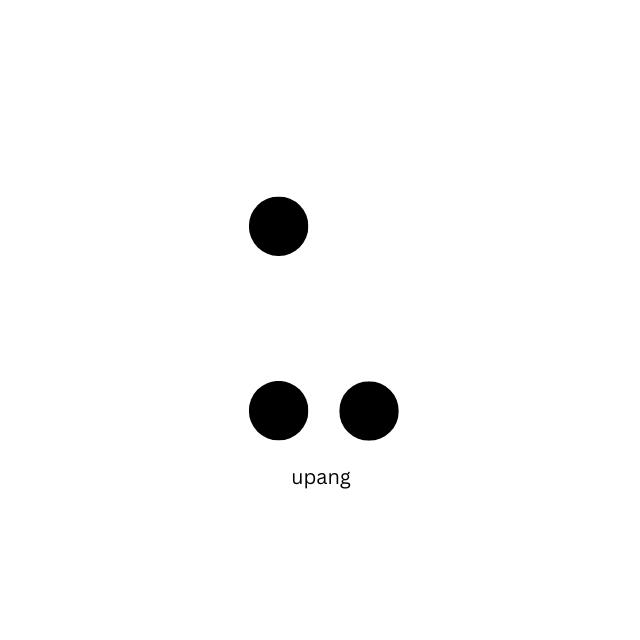one_cell_alphabet_upang: (249, 195, 400, 443)
